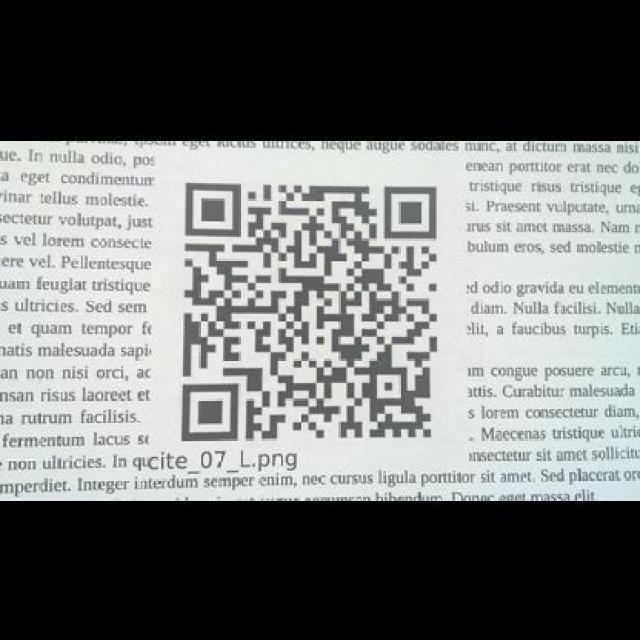QRCode: (173, 175, 450, 447)
